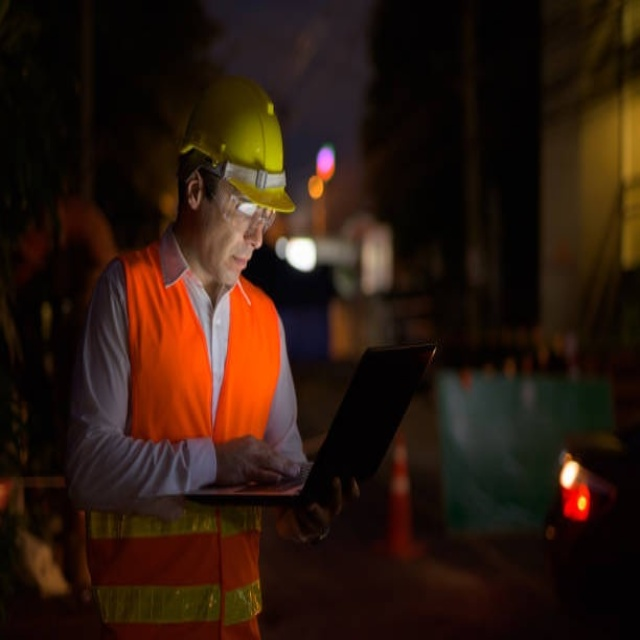Gafas: (208, 175, 278, 232)
Sin_guantes: (278, 471, 359, 545), (212, 432, 303, 490)
Sin_mascara: (220, 242, 260, 284)
